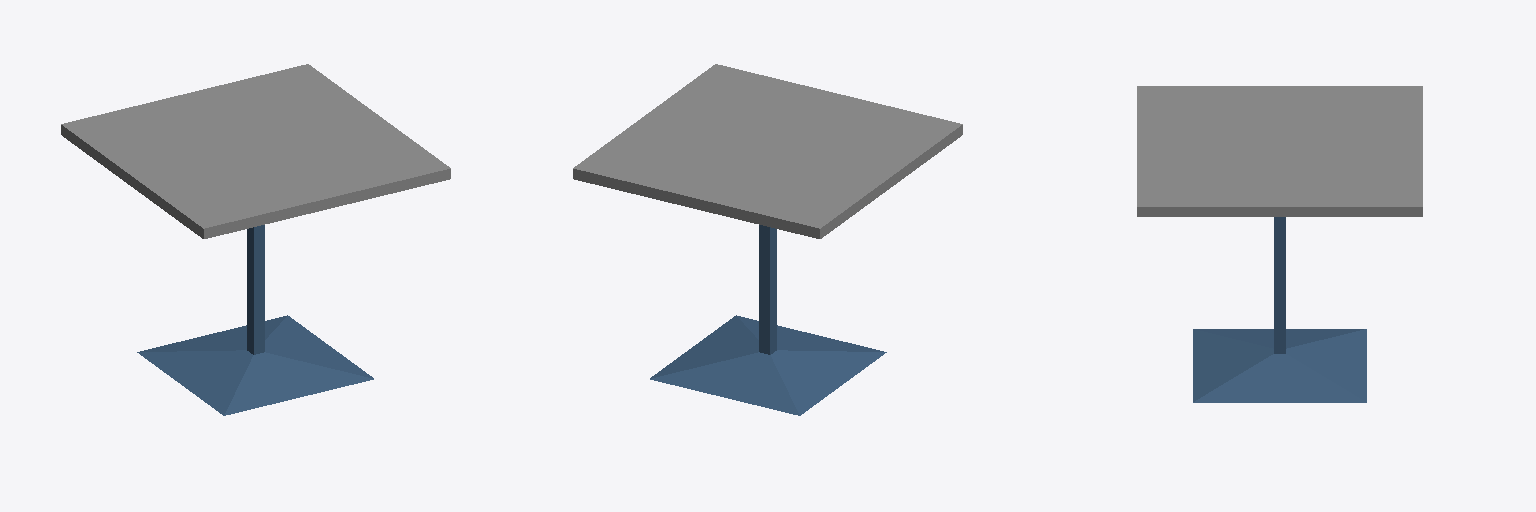
File: cafe_table.obj
3 views of the same model, side by side, from view 1: azimuth 30°, elevation 25°; view 2: azimuth 150°, elevation 25°; view 3: azimuth 270°, elevation 25° (orthographic).
Bounding box in the file's own units: 0.9 × 0.7625 × 0.9.